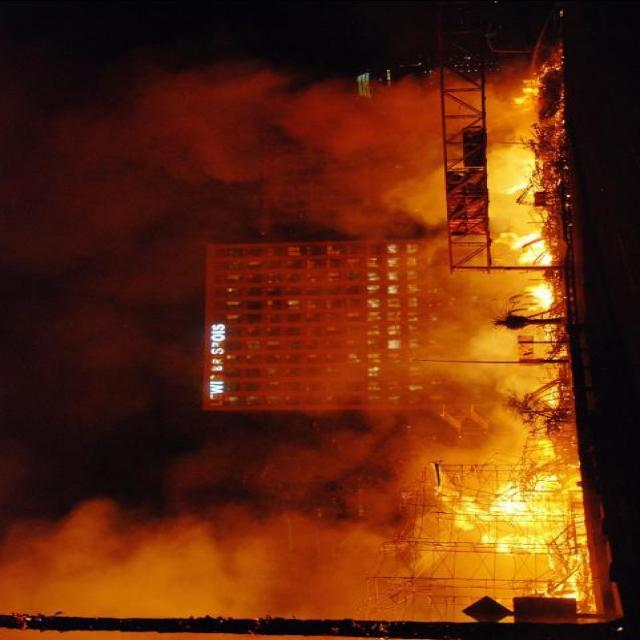Fire: (431, 454, 587, 585), (491, 73, 551, 314)
